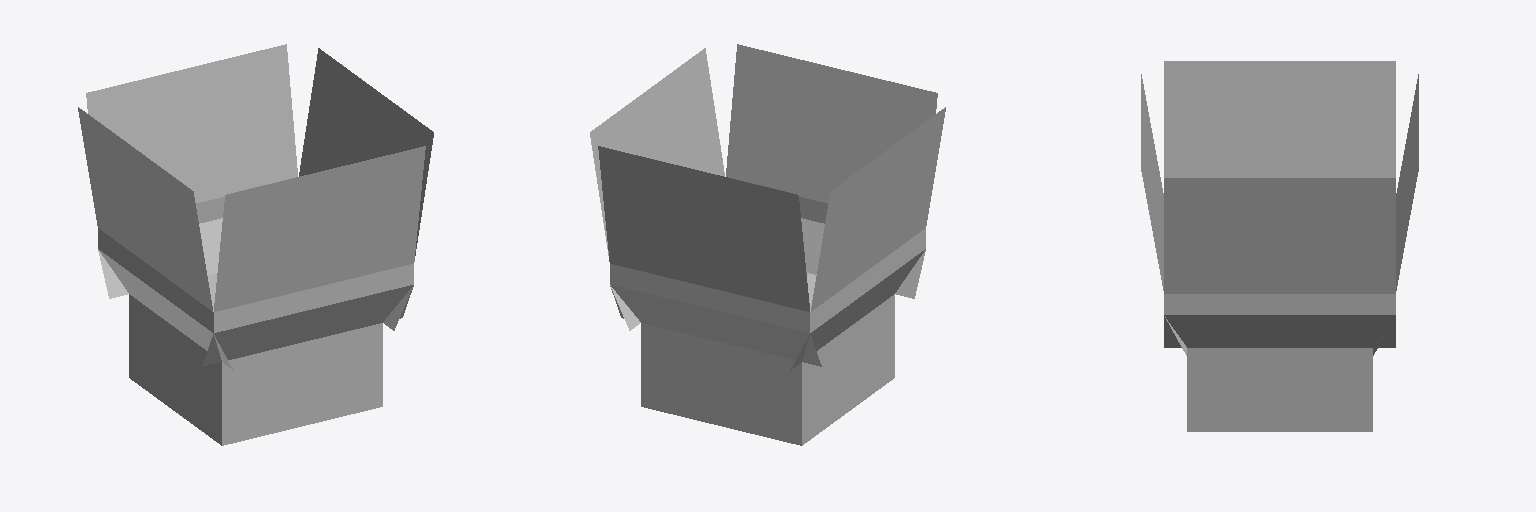
Rendered from spirit_sconce.obj.
3 views of the same model, side by side, from view 1: azimuth 30°, elevation 25°; view 2: azimuth 150°, elevation 25°; view 3: azimuth 270°, elevation 25° (orthographic).
Visible parts, largest first — view 1: base; view 2: base; view 3: base.
Boxes of the visible parts, x1=… form: base: x1=78, y1=44, x2=433, y2=445; base: x1=590, y1=44, x2=945, y2=445; base: x1=1141, y1=61, x2=1418, y2=431.
Bounding box in the file's own units: 0.75 × 0.8125 × 0.75.